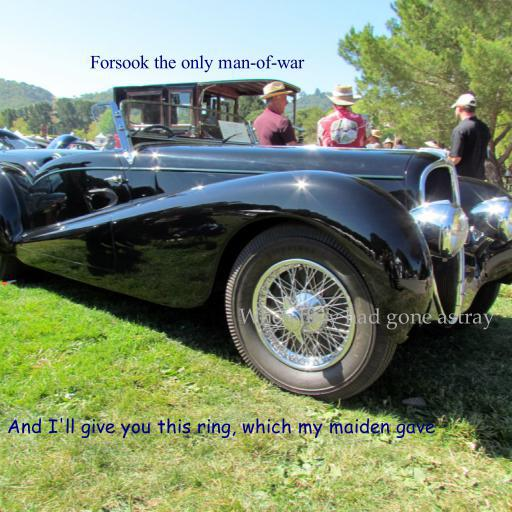Comic Sans MS: (7, 417, 435, 439)
Palatino: (239, 306, 495, 330)
Times New Roman: (90, 55, 304, 73)
